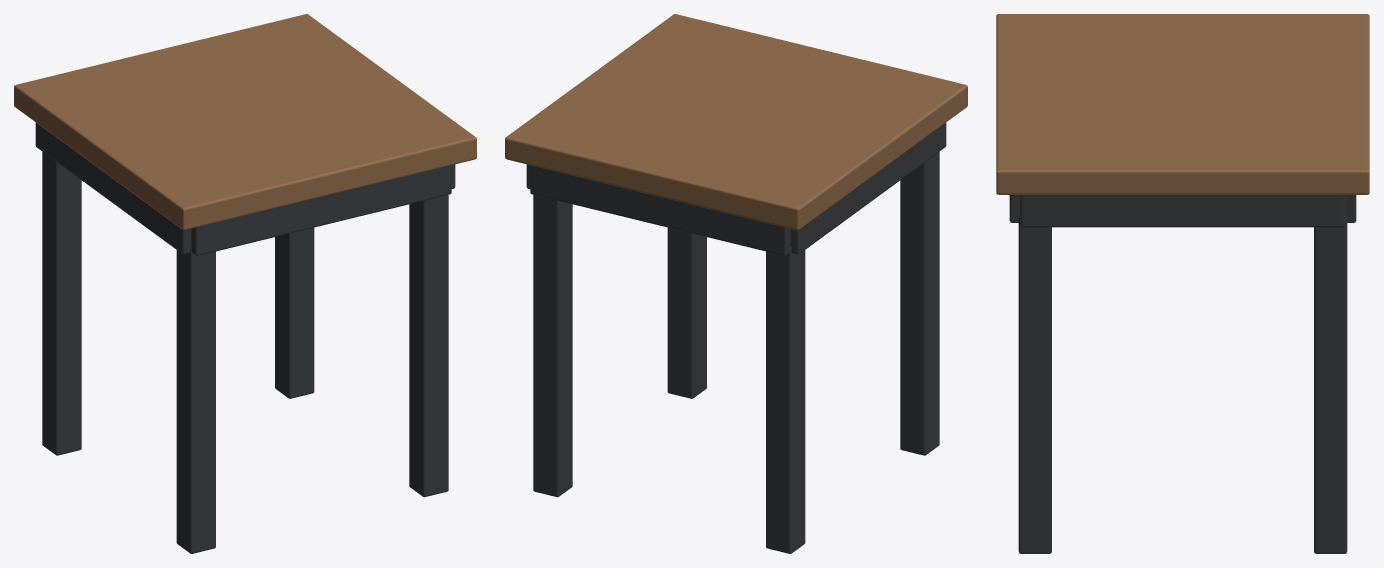
Rendered from cafe-side-table-01.glb.
The picture shows the model from 3 angles, left to right: view 1: azimuth 30°, elevation 25°; view 2: azimuth 150°, elevation 25°; view 3: azimuth 270°, elevation 25°; orthographic projection. The views are drawn at different scales.
Parts seen in each view (by area): view 1: cafe-side-table-01; view 2: cafe-side-table-01; view 3: cafe-side-table-01.
Part boxes in pixels (left/top/right/bottom): cafe-side-table-01: left=14, top=14, right=476, bottom=553; cafe-side-table-01: left=505, top=14, right=967, bottom=553; cafe-side-table-01: left=996, top=14, right=1369, bottom=553.
Bounding box in the file's own units: 0.62 × 0.72 × 0.62.
